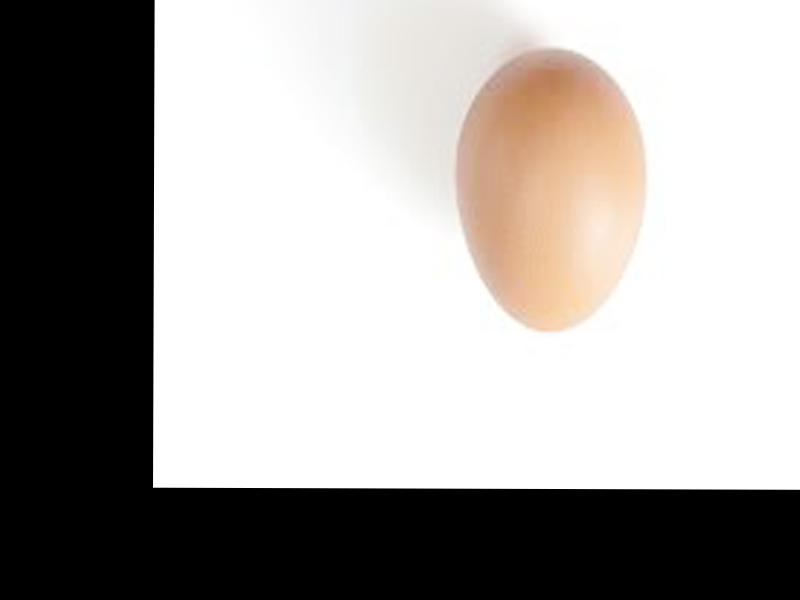Eggs: (456, 48, 643, 334)
